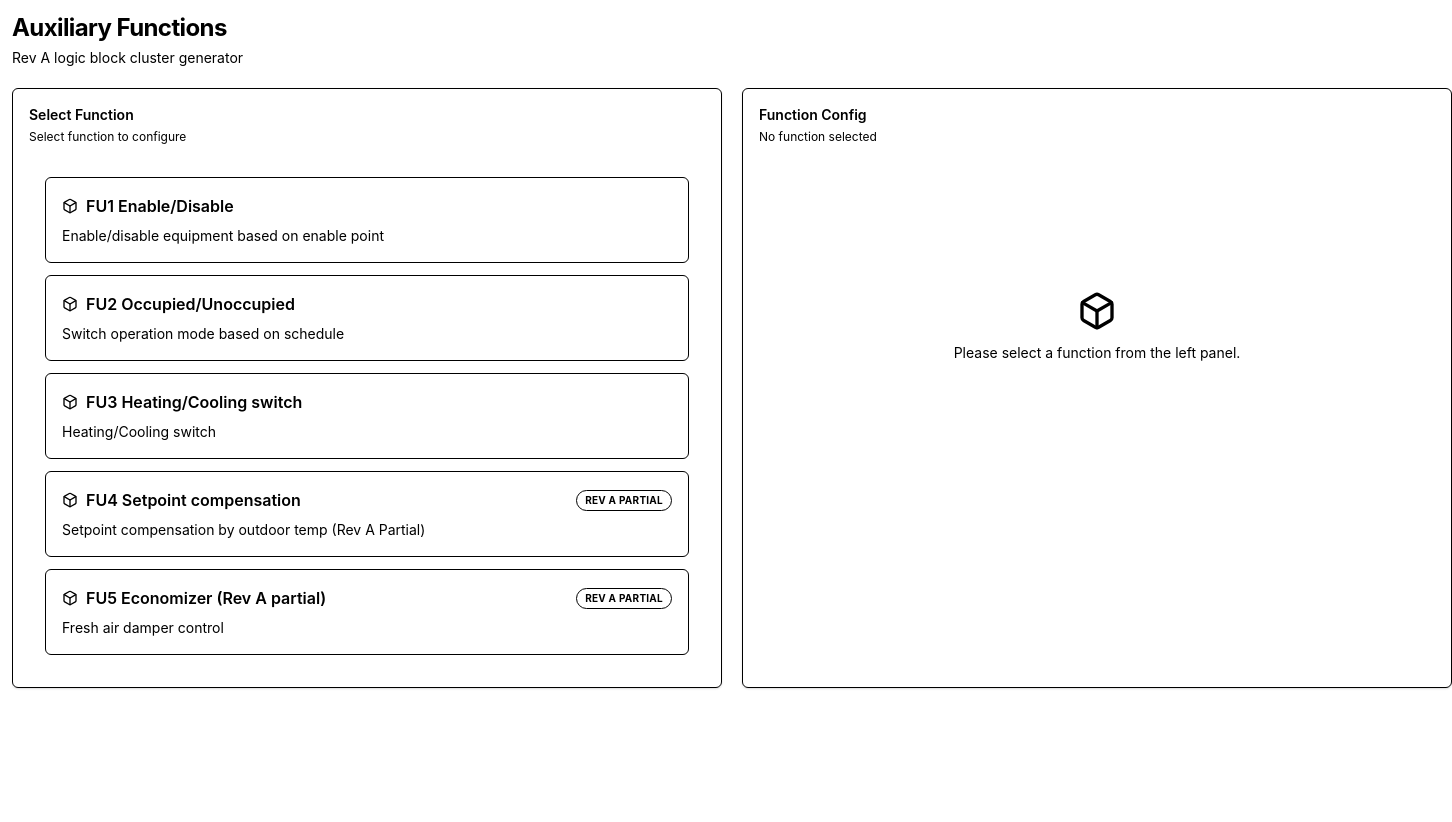
Test: AuxFunctionsPage — ranh giới live/demo › live chỉ sinh preview, không chấm PASS bằng graph demo
Click the text "FU1 Enable/Disable". click: [148, 206]
box: [62,196,234,216]
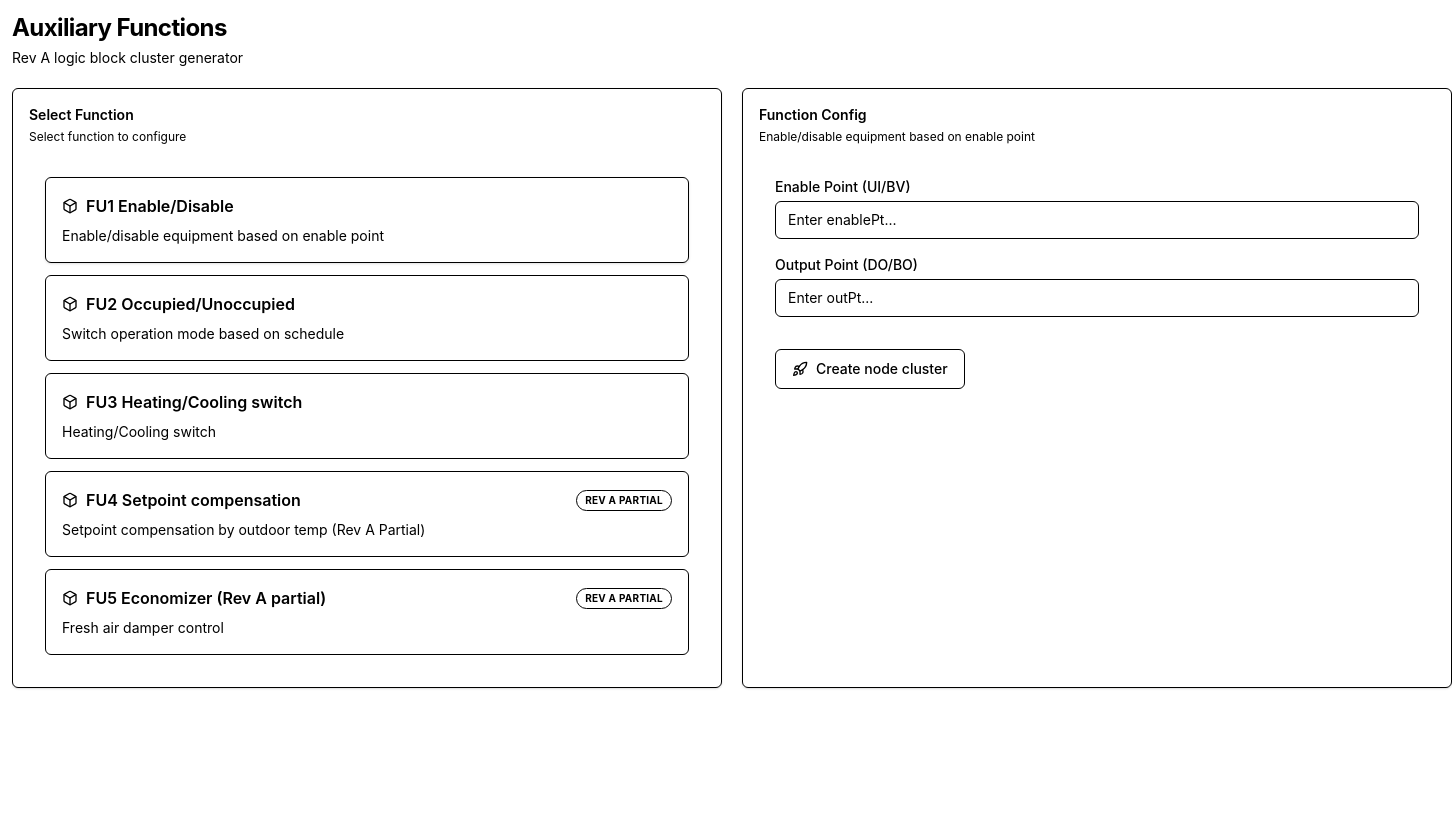
Type "UI-01" into the field with placeholder "Enter enablePt...". click: [1097, 220]
box: [775,201,1419,239]
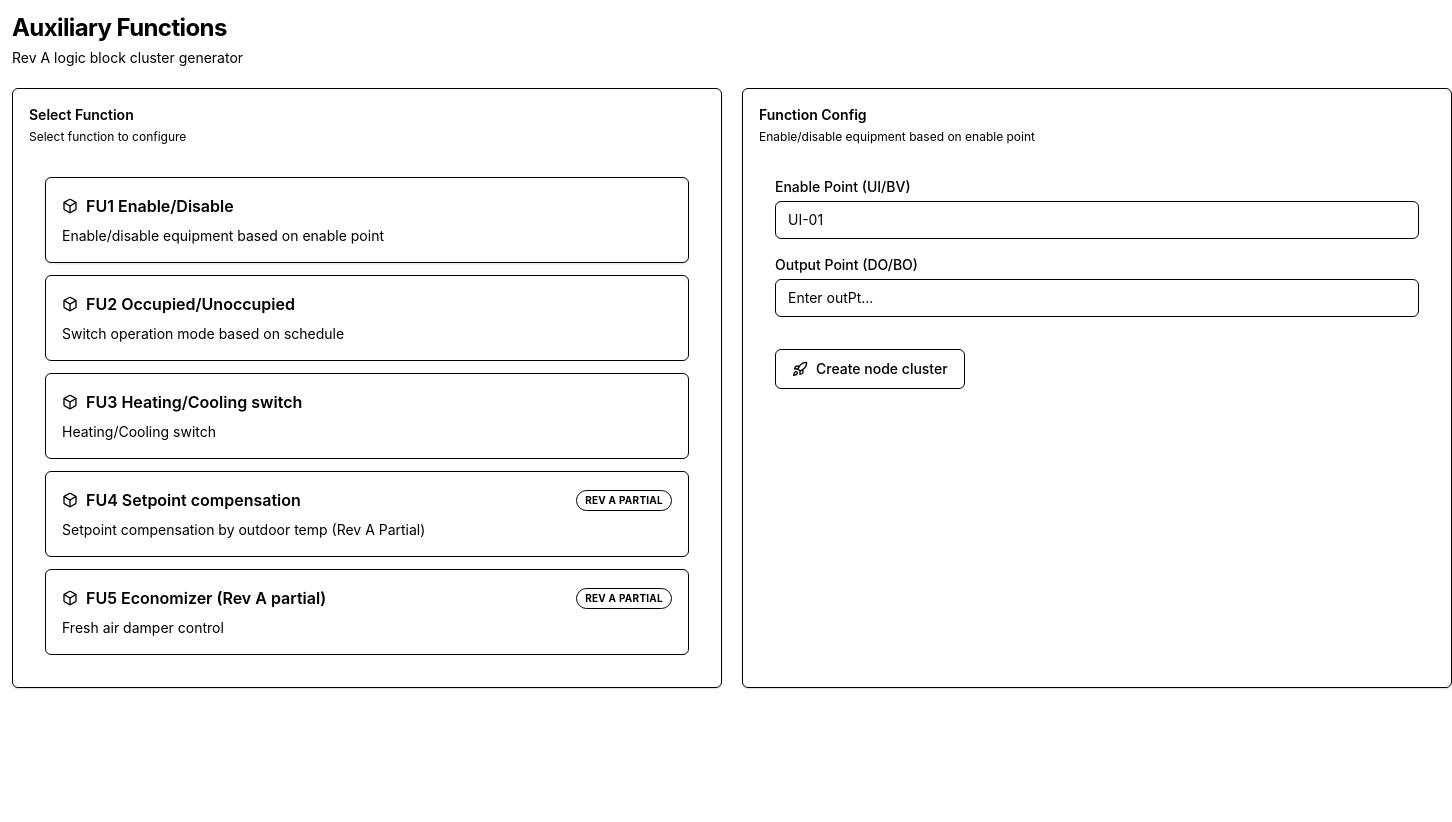
Type "DO-01" into the field with placeholder "Enter outPt...". click: [1097, 298]
box: [775,279,1419,317]
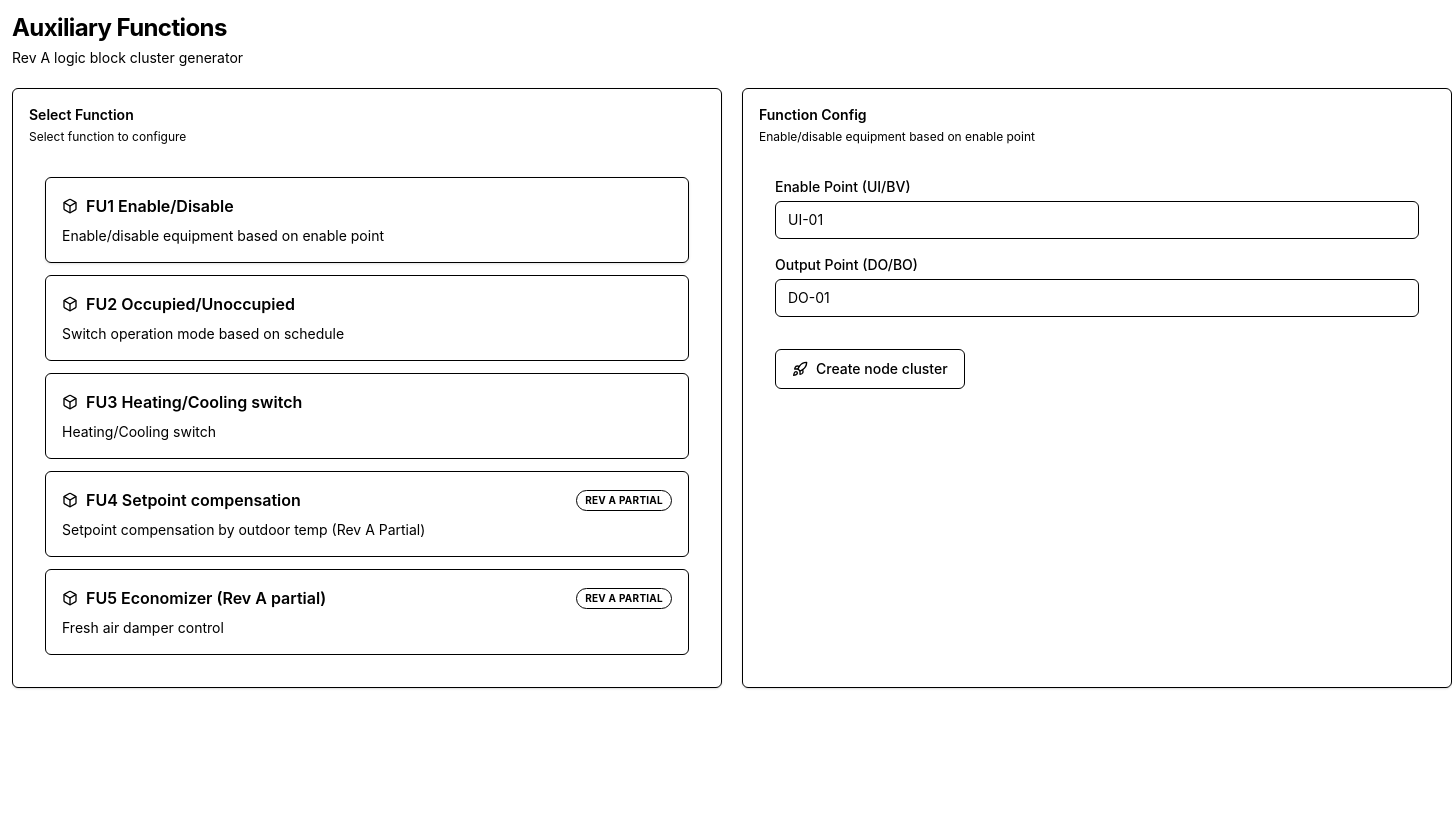
Click the button "Create node cluster". click: [870, 369]
box: [775,349,965,389]
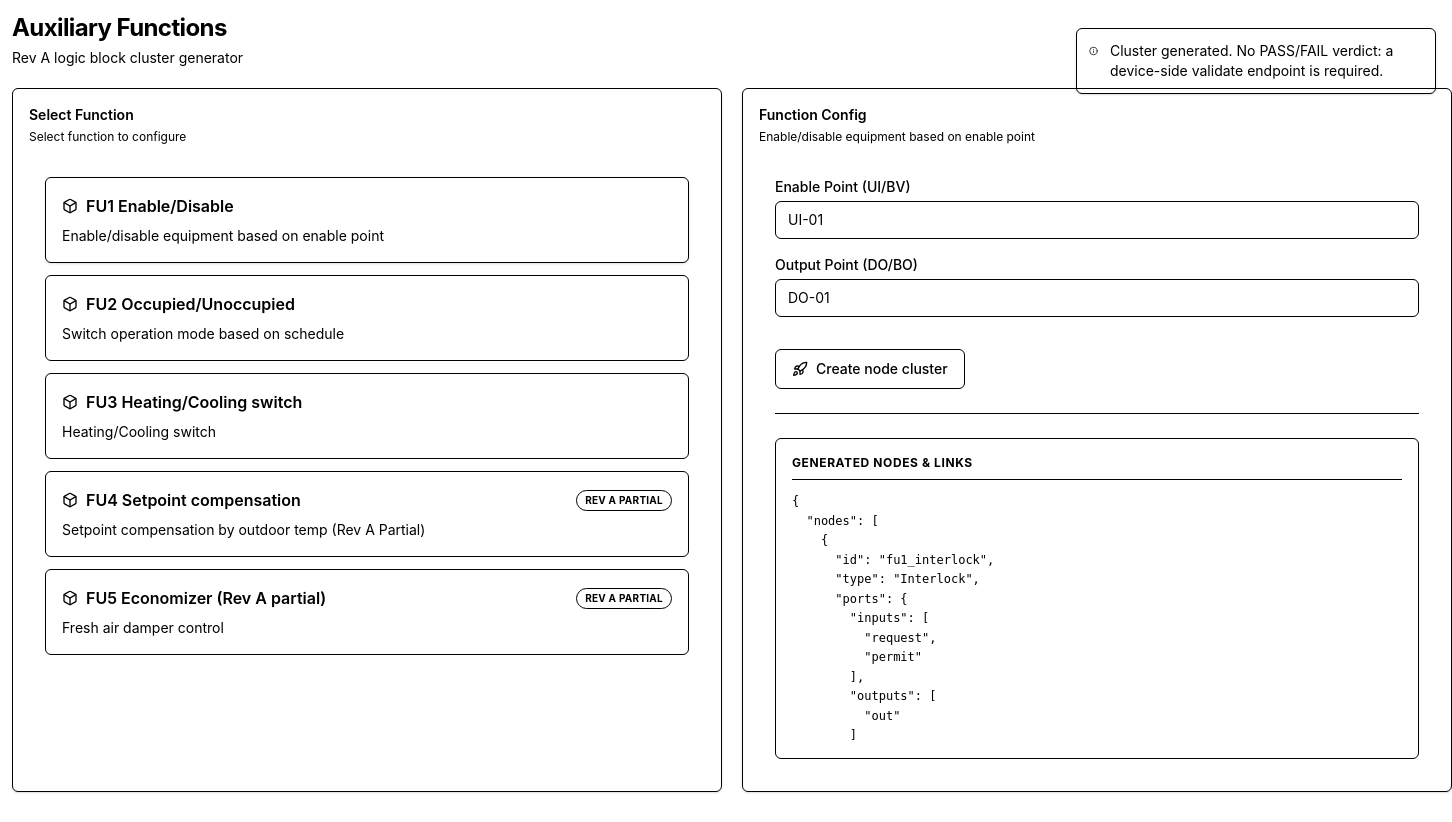
Check: the text "Generated Nodes & Links" is shown, box [792,455,973,471]
Check: the text "No PASS/FAIL verdict" is shown, box [1110,42,1393,79]
